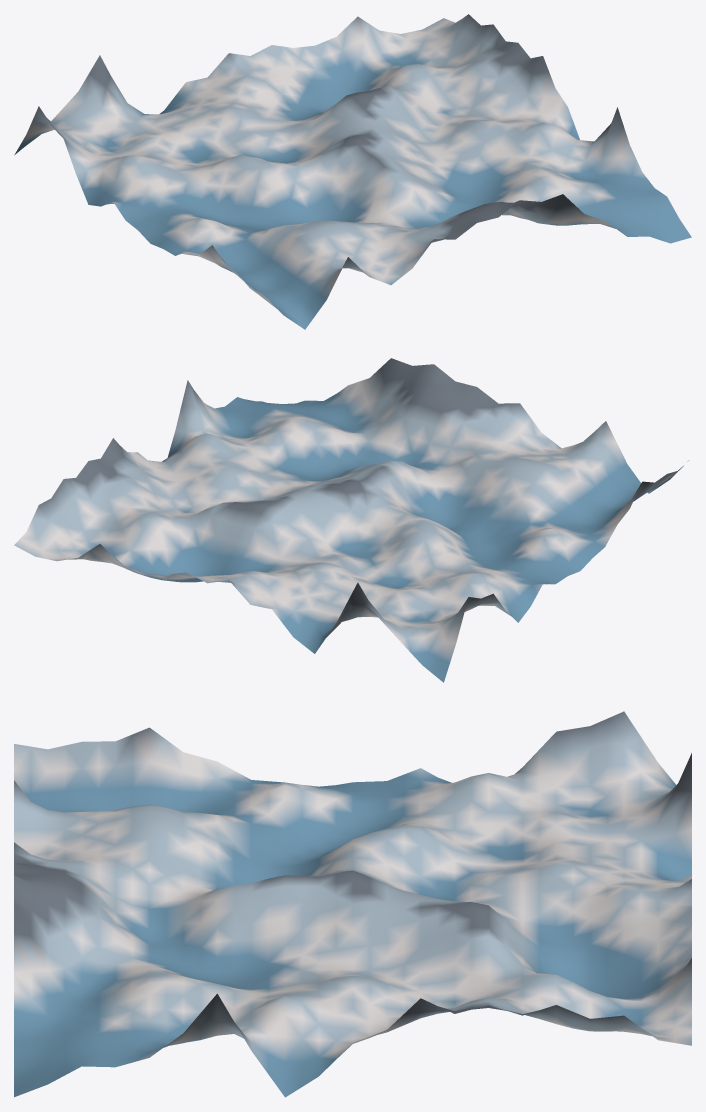
The model's file is Terrain.fbx.
The picture shows the model from 3 angles, top to bottom: view 1: azimuth 30°, elevation 25°; view 2: azimuth 150°, elevation 25°; view 3: azimuth 270°, elevation 25°; orthographic projection. The views are drawn at different scales.
Visible parts, largest first — view 1: terrain; view 2: terrain; view 3: terrain.
Part boxes in pixels (bbox=[...]): terrain: bbox=[14, 14, 691, 329]; terrain: bbox=[14, 358, 688, 682]; terrain: bbox=[14, 711, 691, 1097].
Size of the model in its own units: 10 by 1.9 by 10.
